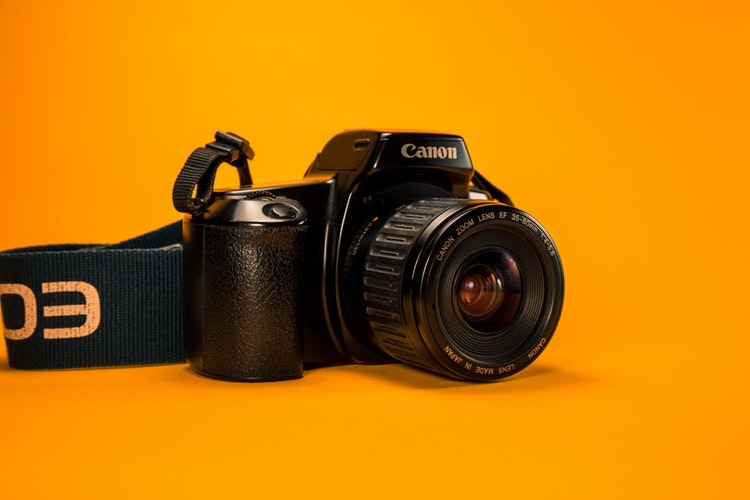camera: (181, 131, 563, 403)
